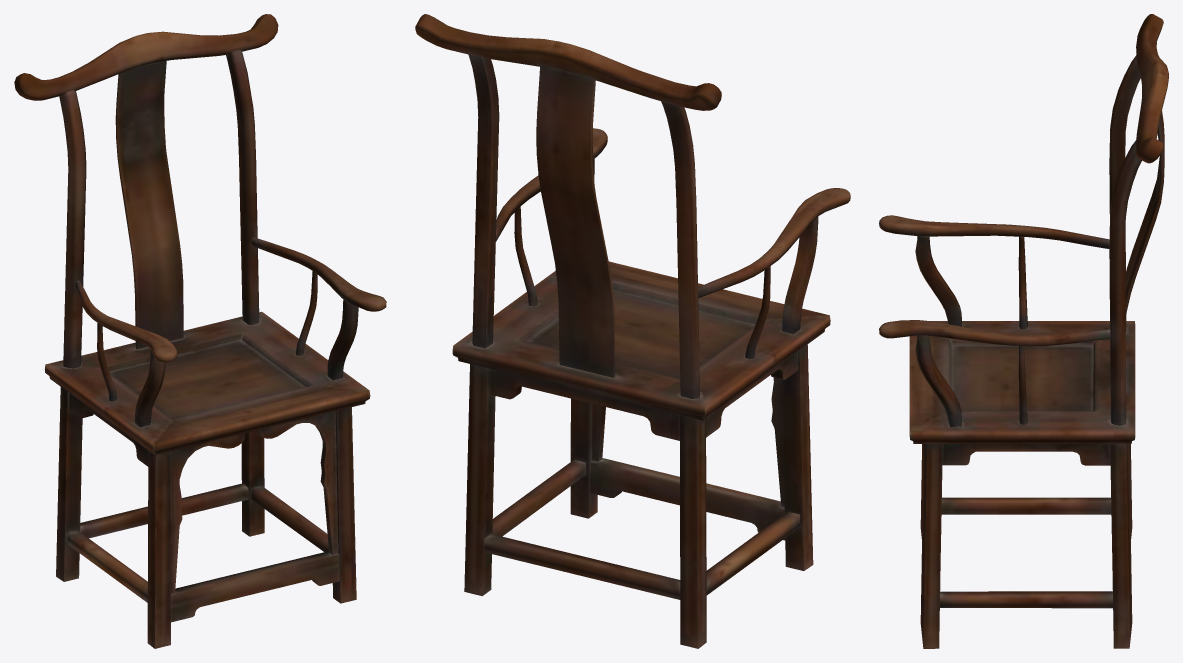
File: chinese_armchair.glb
The picture shows the model from 3 angles, left to right: view 1: azimuth 30°, elevation 25°; view 2: azimuth 150°, elevation 25°; view 3: azimuth 270°, elevation 25°; orthographic projection. The views are drawn at different scales.
Parts seen in each view (by area): view 1: chinese_armchair; view 2: chinese_armchair; view 3: chinese_armchair.
Part boxes in pixels (x1=…): chinese_armchair: x1=14, y1=14, x2=386, y2=648; chinese_armchair: x1=415, y1=14, x2=850, y2=648; chinese_armchair: x1=879, y1=14, x2=1168, y2=648.
Size of the model in its own units: 0.8483 by 1.59 by 0.7887.
1 material, 1 textured.
